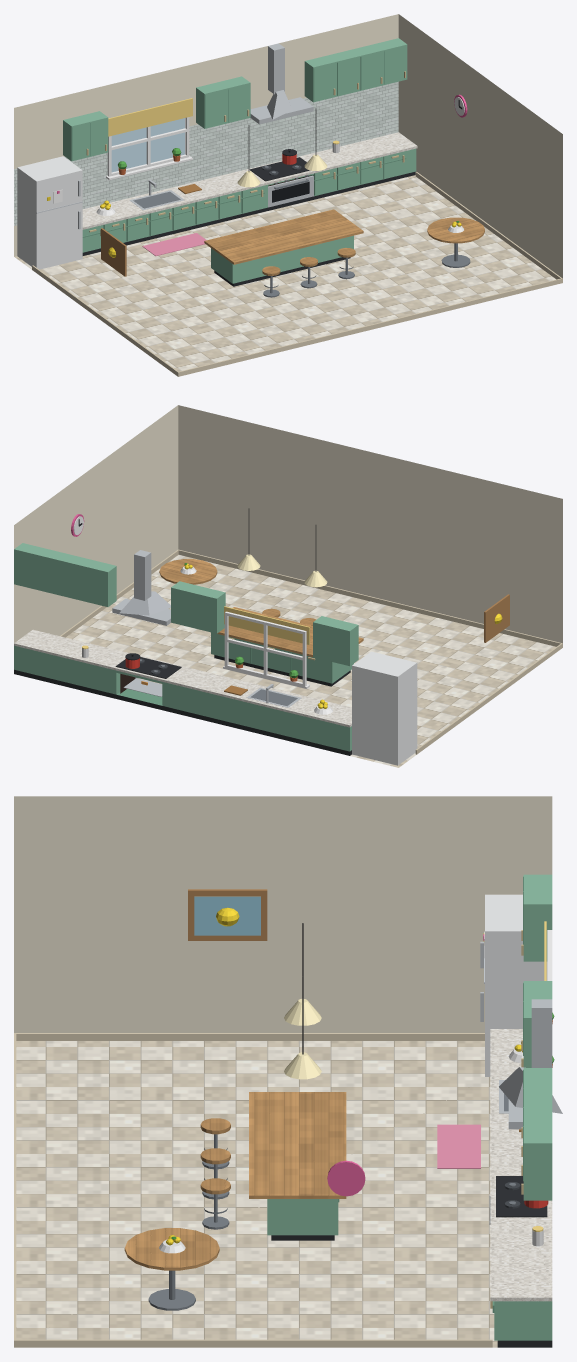
Rendered from cocina.glb.
3 renders of one model, top to bottom at view 1: azimuth 30°, elevation 25°; view 2: azimuth 150°, elevation 25°; view 3: azimuth 270°, elevation 25°, orthographic. The views are drawn at different scales.
Parts seen in each view (by area): view 1: piso, muro, mueble, azulejo, refri, madera, cubierta, zocalo, acero, negro, ventana, cortina (+8 smaller); view 2: muro, piso, mueble, refri, cubierta, zocalo, negro, acero, madera, marco, cortina, cuadro_marco (+2 smaller); view 3: piso, muro, madera, mueble, cubierta, zocalo, refri, acero, cuadro, negro, acero_osc, alfombra (+3 smaller).
Part boxes in pixels (bbox=[...]): piso: bbox=[14, 175, 555, 371]; muro: bbox=[14, 14, 562, 278]; mueble: bbox=[63, 38, 416, 283]; azulejo: bbox=[14, 81, 398, 225]; refri: bbox=[17, 156, 82, 269]; madera: bbox=[204, 209, 484, 275]; cubierta: bbox=[82, 132, 417, 229]; zocalo: bbox=[32, 172, 562, 376]; acero: bbox=[78, 43, 313, 229]; negro: bbox=[82, 100, 462, 286]; ventana: bbox=[111, 118, 184, 172]; cortina: bbox=[108, 98, 339, 144]; muro: bbox=[14, 405, 562, 643]; piso: bbox=[66, 555, 555, 767]; mueble: bbox=[14, 543, 358, 751]; refri: bbox=[352, 651, 417, 765]; cubierta: bbox=[14, 629, 351, 727]; zocalo: bbox=[60, 549, 562, 754]; negro: bbox=[14, 519, 351, 755]; acero: bbox=[112, 550, 301, 707]; madera: bbox=[159, 559, 363, 657]; marco: bbox=[223, 611, 309, 688]; cortina: bbox=[82, 606, 309, 649]; cuadro_marco: bbox=[484, 594, 509, 642]; piso: bbox=[16, 1041, 497, 1347]; muro: bbox=[14, 796, 552, 1032]; madera: bbox=[124, 1092, 346, 1270]; mueble: bbox=[267, 874, 552, 1340]; cubierta: bbox=[490, 1029, 552, 1301]; zocalo: bbox=[14, 1033, 492, 1347]; refri: bbox=[485, 894, 547, 1076]; acero: bbox=[480, 941, 562, 1129]; cuadro: bbox=[194, 896, 260, 935]; negro: bbox=[271, 1176, 552, 1347]; acero_osc: bbox=[148, 1093, 516, 1310]; alfombra: bbox=[437, 1124, 480, 1168].
Bounding box in the file's own units: 9.29 × 3.4 × 6.94.
Materials: 36 (4 with a texture image).
